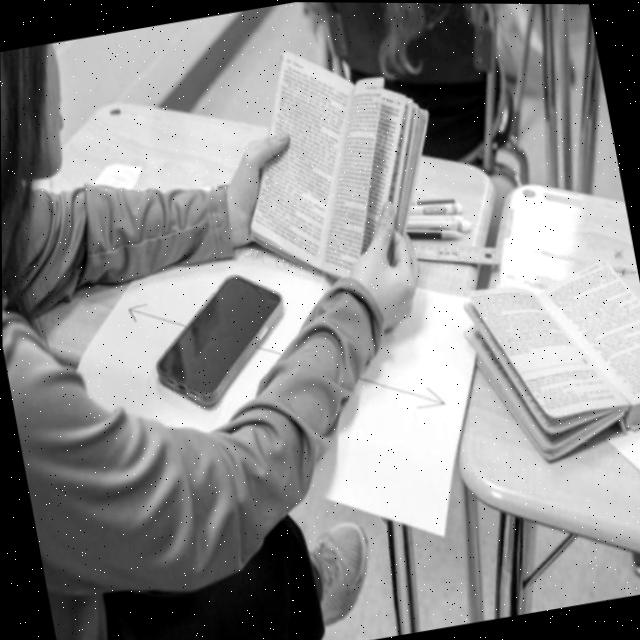phone: (136, 258, 300, 420)
